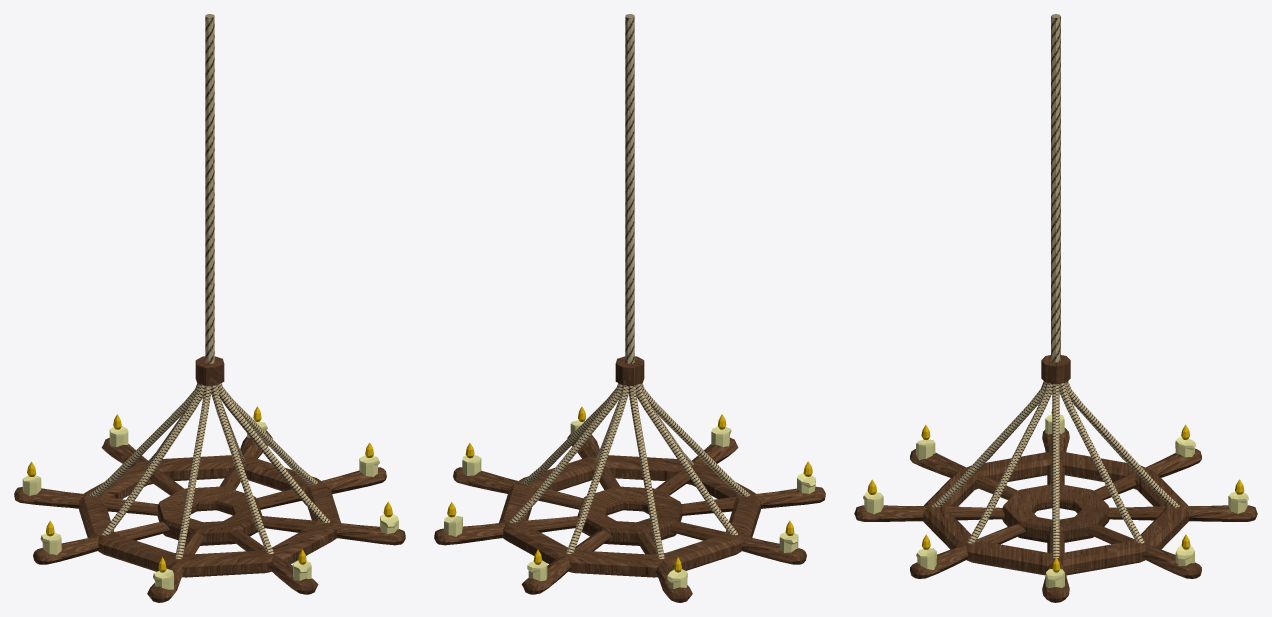
File: chandelier05.fbx
The picture shows the model from 3 angles, left to right: view 1: azimuth 30°, elevation 25°; view 2: azimuth 150°, elevation 25°; view 3: azimuth 270°, elevation 25°; orthographic projection.
Parts seen in each view (by area): view 1: Circle, Circle.001, Cylinder.026, Cylinder.005, Cylinder.007, Cylinder.002, Cylinder, Cylinder.021, Cylinder.025, Cylinder.024, Cylinder.023, Cylinder.001 (+6 smaller); view 2: Circle, Circle.001, Cylinder.026, Cylinder.004, Cylinder.006, Cylinder.002, Cylinder, Cylinder.021, Cylinder.009, Cylinder.019, Cylinder.020, Cylinder.003 (+6 smaller); view 3: Circle, Circle.001, Cylinder.026, Cylinder.003, Cylinder.001, Cylinder.004, Cylinder.020, Cylinder.023, Cylinder.005, Cylinder.022, Cylinder.019, Cylinder.024 (+5 smaller).
Boxes of the visible parts, left/top/right/bottom form: Circle: left=79, top=455, right=340, bottom=577; Circle.001: left=157, top=486, right=262, bottom=545; Cylinder.026: left=205, top=14, right=214, bottom=363; Cylinder.005: left=261, top=516, right=405, bottom=545; Cylinder.007: left=14, top=487, right=158, bottom=515; Cylinder.002: left=33, top=521, right=169, bottom=564; Cylinder: left=256, top=467, right=386, bottom=509; Cylinder.021: left=102, top=384, right=204, bottom=535; Cylinder.025: left=175, top=385, right=211, bottom=558; Cylinder.024: left=211, top=385, right=273, bottom=553; Cylinder.023: left=217, top=383, right=330, bottom=522; Cylinder.001: left=228, top=530, right=318, bottom=594; Circle: left=499, top=455, right=760, bottom=577; Circle.001: left=577, top=486, right=682, bottom=545; Cylinder.026: left=625, top=14, right=634, bottom=363; Cylinder.004: left=434, top=516, right=578, bottom=545; Cylinder.006: left=681, top=486, right=825, bottom=515; Cylinder.002: left=670, top=521, right=806, bottom=564; Cylinder: left=453, top=467, right=583, bottom=509; Cylinder.021: left=635, top=384, right=737, bottom=535; Cylinder.009: left=628, top=385, right=664, bottom=558; Cylinder.019: left=566, top=385, right=628, bottom=553; Cylinder.020: left=509, top=383, right=622, bottom=522; Cylinder.003: left=521, top=530, right=611, bottom=594; Circle: left=923, top=452, right=1188, bottom=575; Circle.001: left=1002, top=484, right=1109, bottom=542; Cylinder.026: left=1051, top=14, right=1060, bottom=362; Cylinder.003: left=1107, top=505, right=1257, bottom=521; Cylinder.001: left=854, top=505, right=1004, bottom=521; Cylinder.004: left=1086, top=524, right=1201, bottom=578; Cylinder.020: left=1059, top=383, right=1144, bottom=543; Cylinder.023: left=967, top=383, right=1052, bottom=543; Cylinder.005: left=910, top=524, right=1025, bottom=578; Cylinder.022: left=1052, top=384, right=1059, bottom=557; Cylinder.019: left=1065, top=381, right=1179, bottom=507; Cylinder.024: left=932, top=381, right=1046, bottom=507.
Bounding box in the file's own units: 2047 × 2832 × 2047.
Materials: 11 (6 with a texture image).
